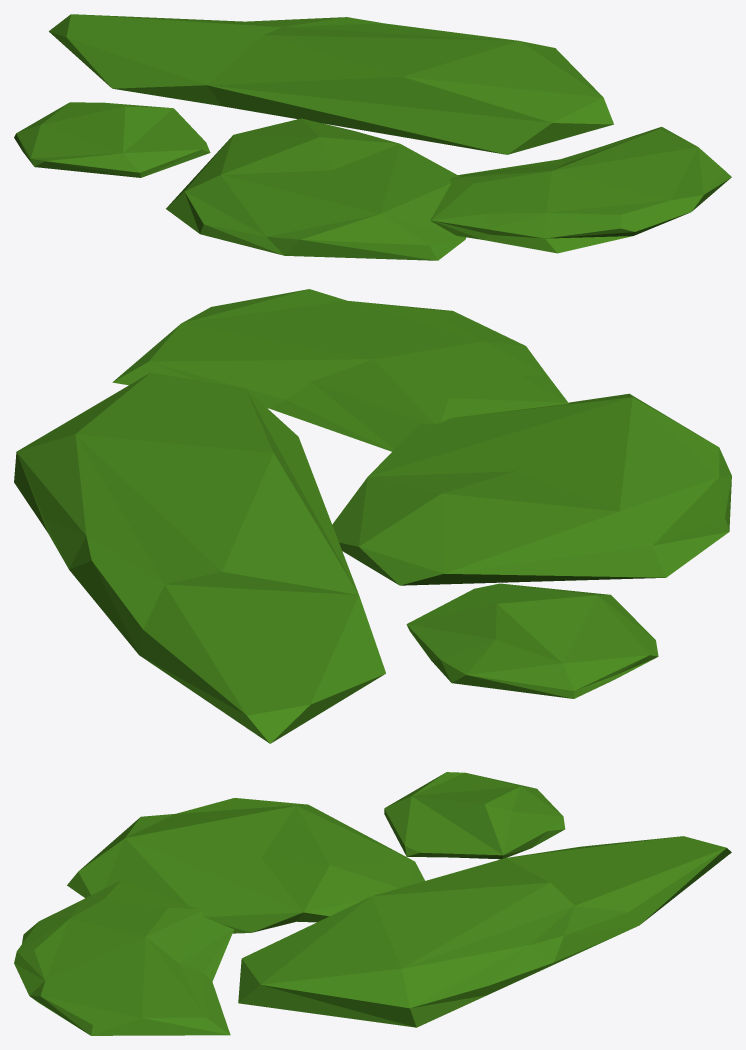
Rendered from Grass_00.FBX.
The picture shows the model from 3 angles, top to bottom: view 1: azimuth 30°, elevation 25°; view 2: azimuth 150°, elevation 25°; view 3: azimuth 270°, elevation 25°; orthographic projection. The views are drawn at different scales.
Visible parts, largest first — view 1: GrassDuneSmall_006, GrassDuneSmall_009, GrassDuneSmall_007, GrassDuneSmall_008; view 2: GrassDuneSmall_006, GrassDuneSmall_009, GrassDuneSmall_007, GrassDuneSmall_008; view 3: GrassDuneSmall_006, GrassDuneSmall_009, GrassDuneSmall_007, GrassDuneSmall_008.
Boxes of the visible parts, x1=… form: GrassDuneSmall_006: x1=49, y1=14, x2=613, y2=154; GrassDuneSmall_009: x1=166, y1=118, x2=466, y2=260; GrassDuneSmall_007: x1=430, y1=126, x2=731, y2=253; GrassDuneSmall_008: x1=14, y1=102, x2=210, y2=177; GrassDuneSmall_006: x1=14, y1=372, x2=385, y2=743; GrassDuneSmall_009: x1=332, y1=393, x2=731, y2=585; GrassDuneSmall_007: x1=112, y1=289, x2=568, y2=451; GrassDuneSmall_008: x1=406, y1=583, x2=658, y2=698; GrassDuneSmall_006: x1=238, y1=836, x2=731, y2=1027; GrassDuneSmall_009: x1=67, y1=798, x2=424, y2=933; GrassDuneSmall_007: x1=14, y1=880, x2=233, y2=1035; GrassDuneSmall_008: x1=384, y1=772, x2=565, y2=859.
Size of the model in its own units: 9.85 by 0.9131 by 11.72.
